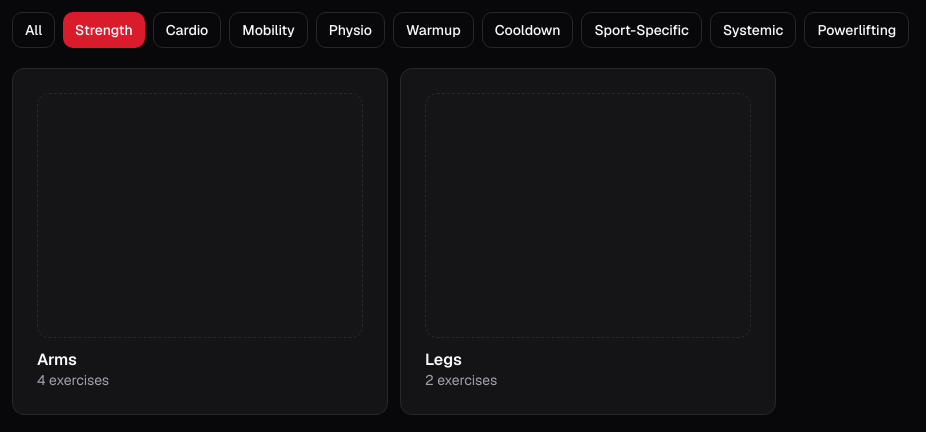
ExercisesTab — by-muscle browse › empty search shows the no-search copy, never 'matching ""'
Click the button "Physio": (350, 30) [316,12,385,48]
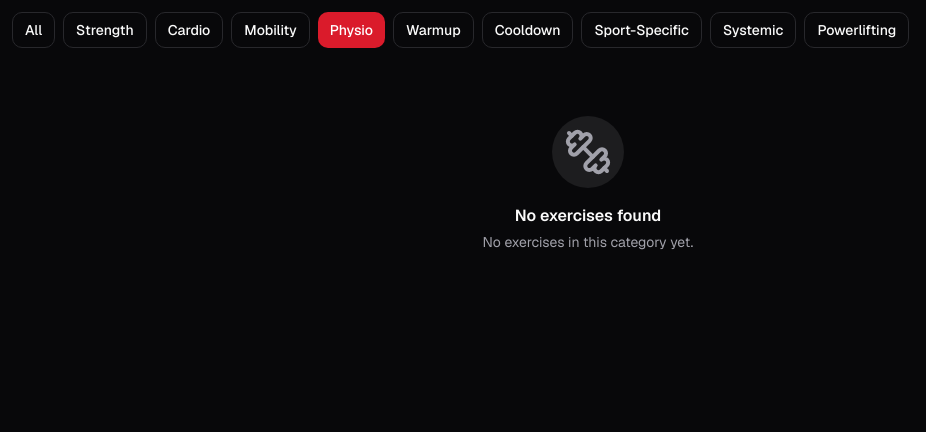
Check: the text "No exercises found" is shown, box [515,204,661,228]
